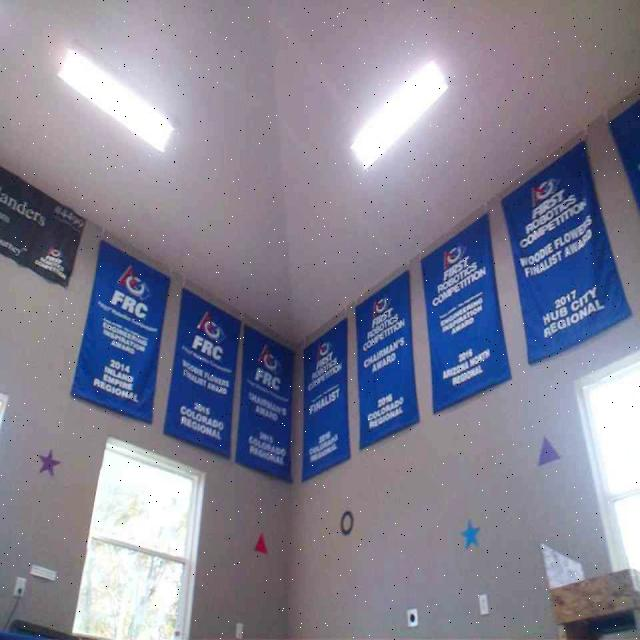ring_black: (339, 509, 354, 534)
star_blue: (460, 518, 480, 550)
star_purple: (38, 447, 59, 477)
triangle_purple: (537, 436, 560, 466)
triangle_red: (253, 532, 268, 554)
